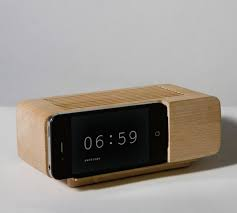alarm_clock: (16, 81, 226, 185), (16, 97, 226, 185)
